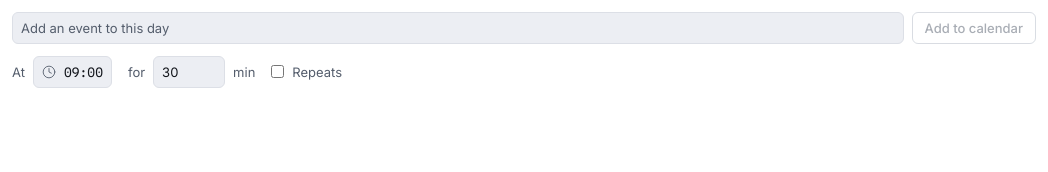
Test: the draft form › confirms by title and time, never by id, and clears the line when the title is edited
The image size is (1048, 172).
Type "Coffee" into the field named "Title" at (458, 28), box x1=12 y1=12 x2=904 y2=44
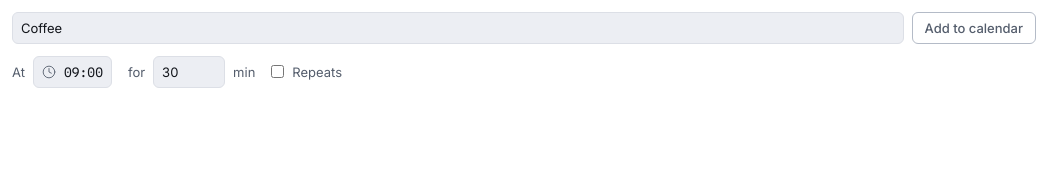
Click the button "Add to calendar" at (974, 28), box x1=912 y1=12 x2=1036 y2=44
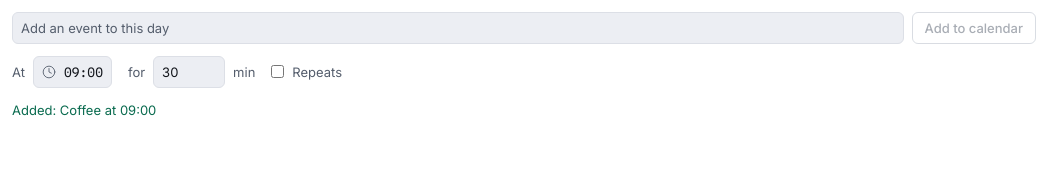
Check: the text "Added: Coffee at 09:00" is shown, box x1=12 y1=102 x2=156 y2=118
Type "T" into the field named "Title" at (458, 28), box x1=12 y1=12 x2=904 y2=44
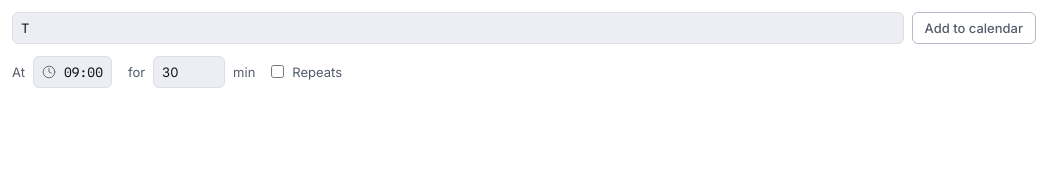
Check: the text "Added:" is gone
